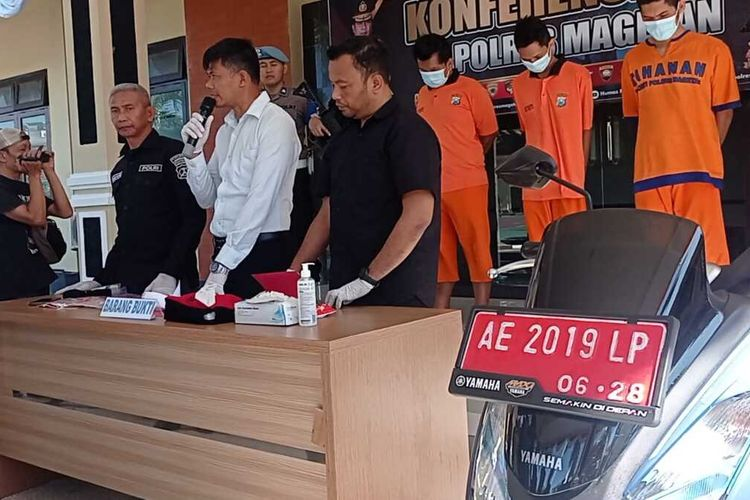plate: (457, 309, 668, 414)
